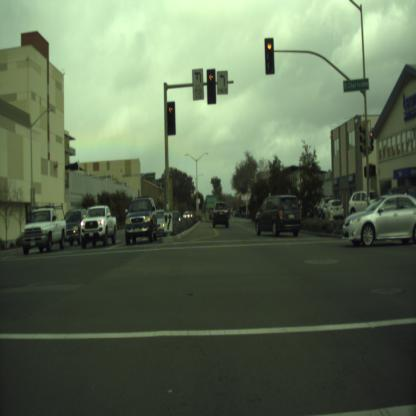Red: (264, 38, 274, 74), (369, 129, 373, 150)
RedLeft: (206, 68, 216, 104), (166, 101, 176, 134)
